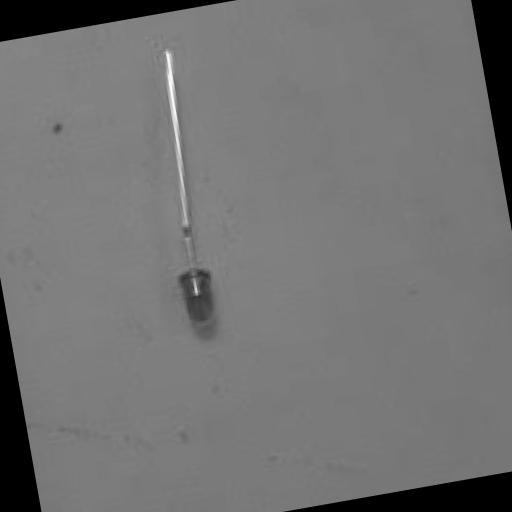LED: (114, 29, 297, 391)
